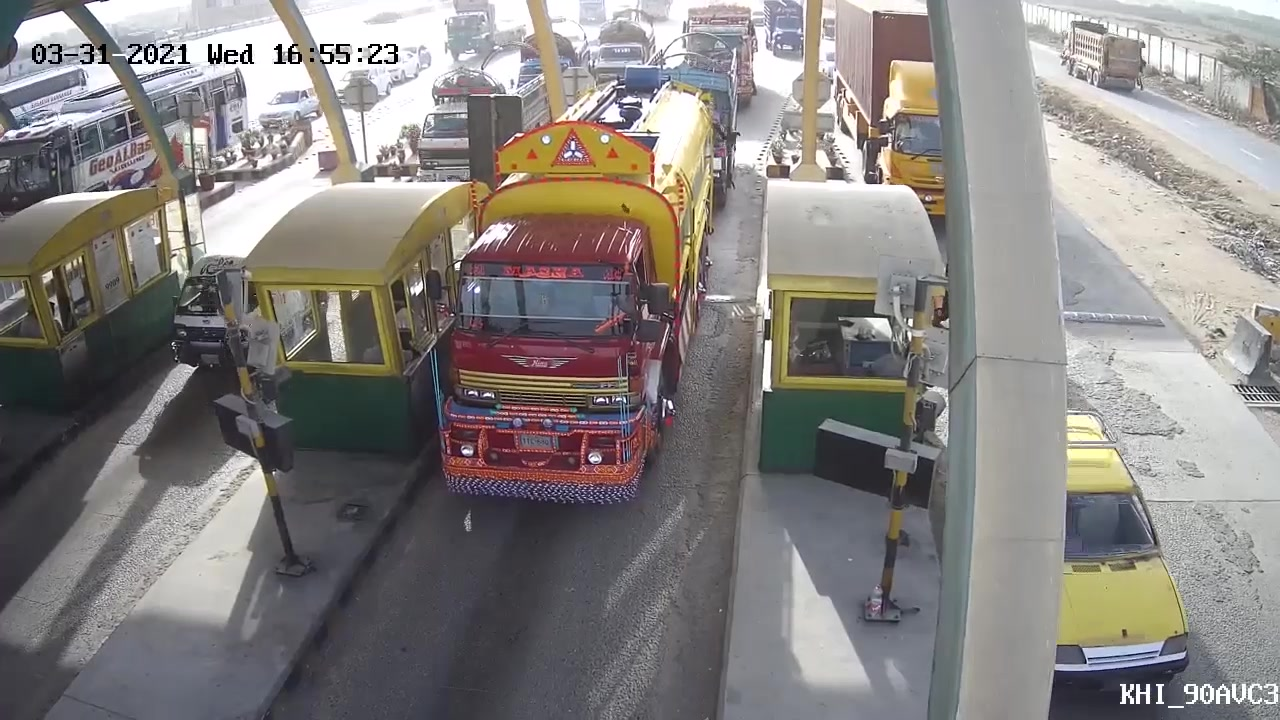F6: (440, 75, 729, 517)
